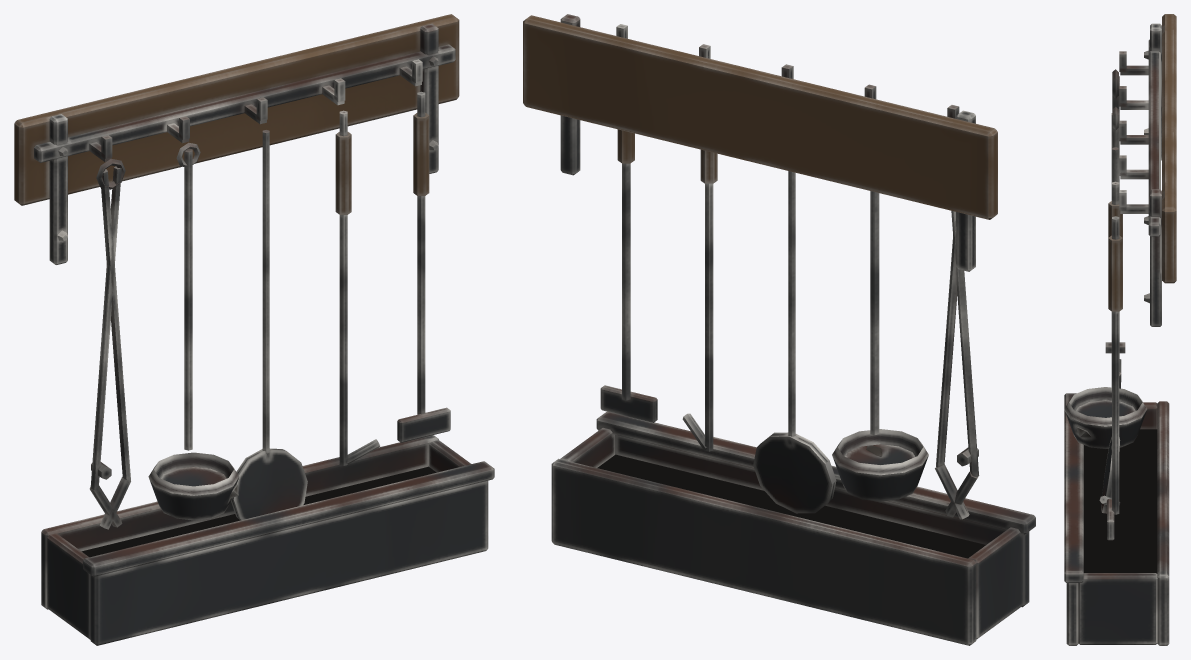
The model's file is foundry_tool_rack.glb.
The picture shows the model from 3 angles, left to right: view 1: azimuth 30°, elevation 25°; view 2: azimuth 150°, elevation 25°; view 3: azimuth 270°, elevation 25°; orthographic projection. The views are drawn at different scales.
Parts seen in each view (by area): view 1: foundry_tool_rack; view 2: foundry_tool_rack; view 3: foundry_tool_rack.
Part boxes in pixels (<box>): foundry_tool_rack: <box>14,14,494,645</box>; foundry_tool_rack: <box>523,14,1035,645</box>; foundry_tool_rack: <box>1064,14,1176,645</box>.
Size of the model in its own units: 1.9 by 2.03 by 0.46.
1 material, 1 textured.
